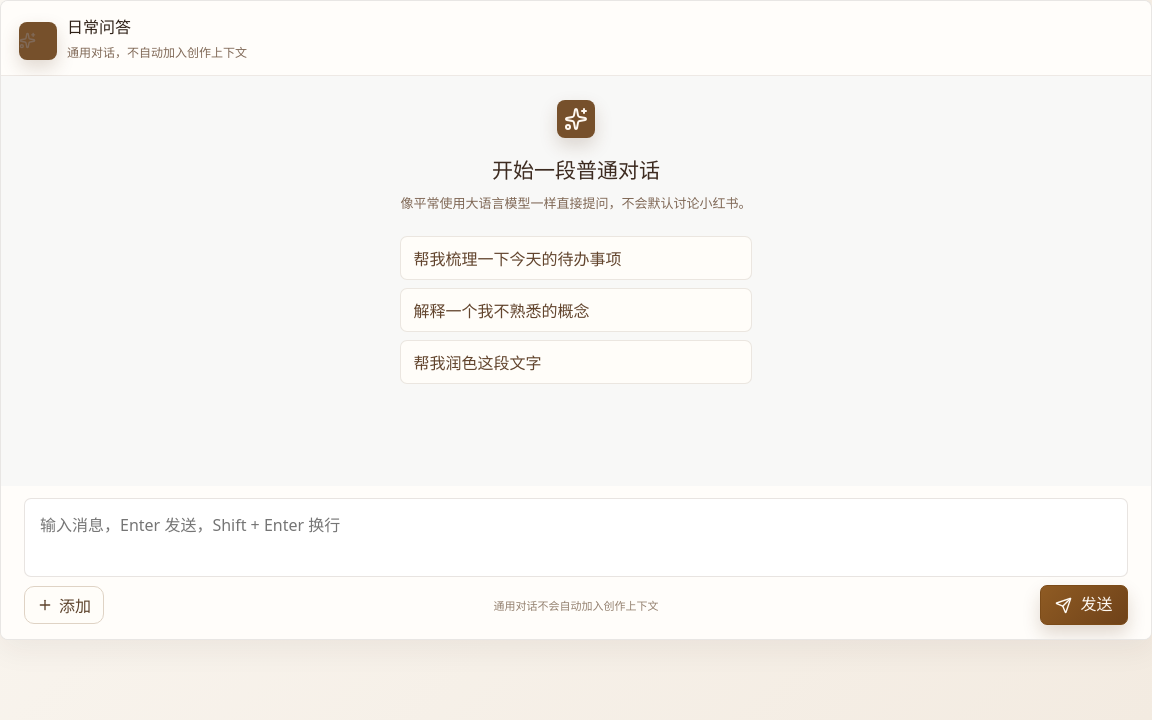
Test: InspirationMessages › opens a focused attachment menu before choosing images
Step 1. Click the button with aria-label "添加内容" → [64, 605], box [24,586,104,624]
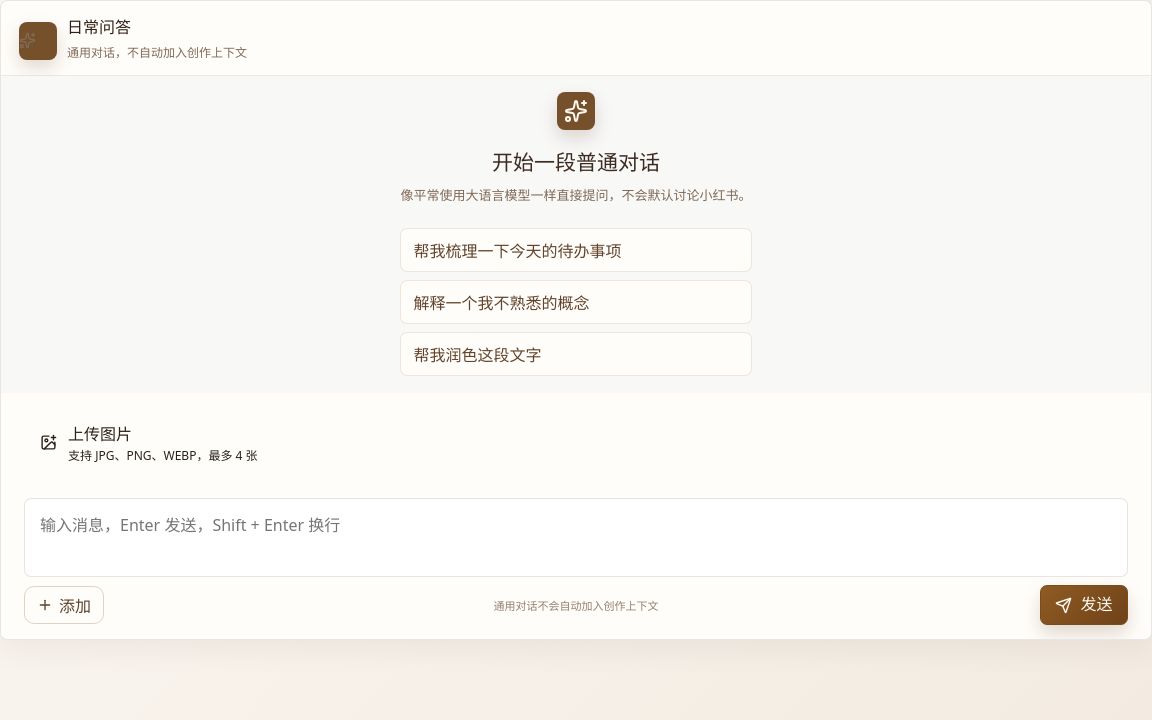
expect the menu named "添加内容" is shown: met, box [24,405,1128,480]
expect the menu item "上传图片 支持 JPG、PNG、WEBP，最多 4 张" is shown: met, box [30,411,1122,474]
expect the text "支持 JPG、PNG、WEBP，最多 4 张" is shown: met, box [68,448,258,464]
